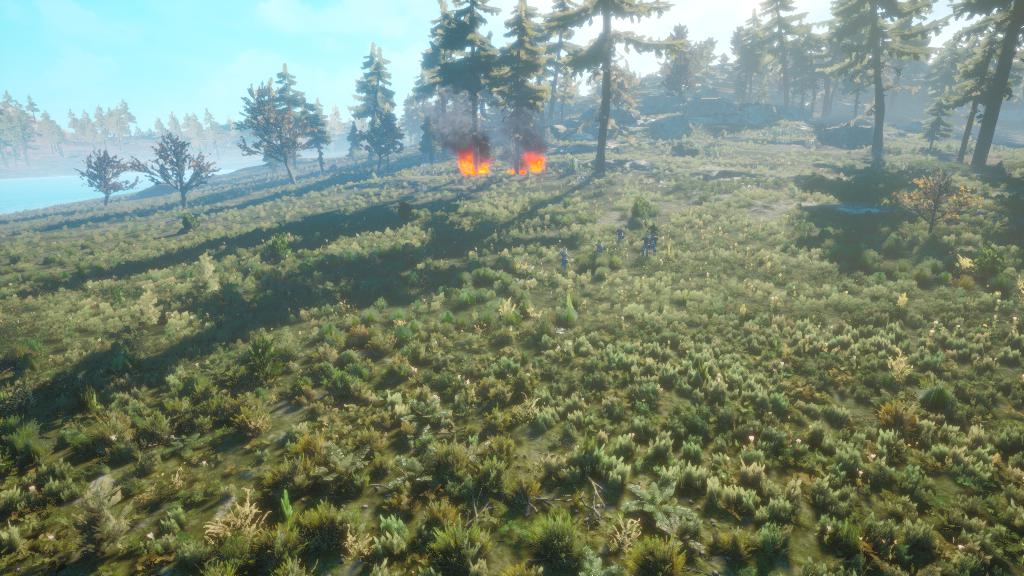Fire: (454, 147, 499, 182), (507, 154, 551, 184)
human: (638, 214, 669, 272), (593, 217, 632, 263), (550, 233, 587, 280)
smoke: (514, 126, 551, 152), (442, 128, 491, 147)
